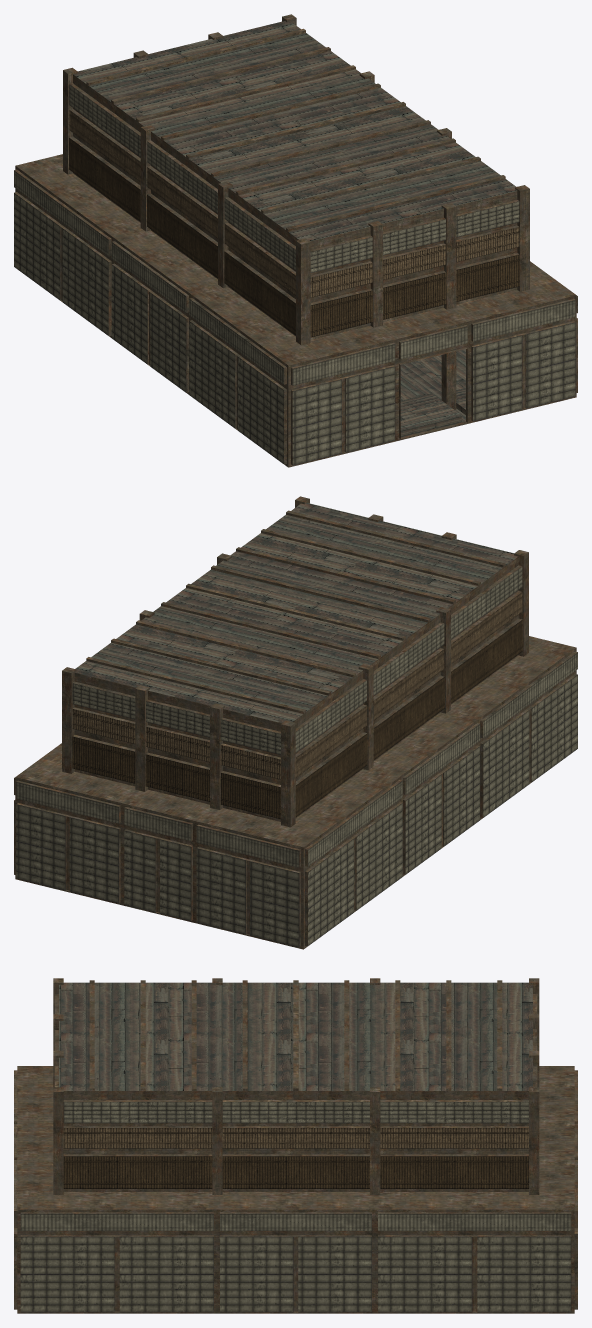
File: dojo.FBX
3 views of the same model, one above another, from view 1: azimuth 30°, elevation 25°; view 2: azimuth 150°, elevation 25°; view 3: azimuth 270°, elevation 25° (orthographic). The views are drawn at different scales.
Visible parts, largest first — view 1: dojo; view 2: dojo; view 3: dojo.
Boxes of the visible parts, x1=… form: dojo: x1=14, y1=14, x2=577, y2=467; dojo: x1=14, y1=496, x2=577, y2=949; dojo: x1=14, y1=978, x2=577, y2=1313.
Bounding box in the file's own units: 483 × 321 × 787.
